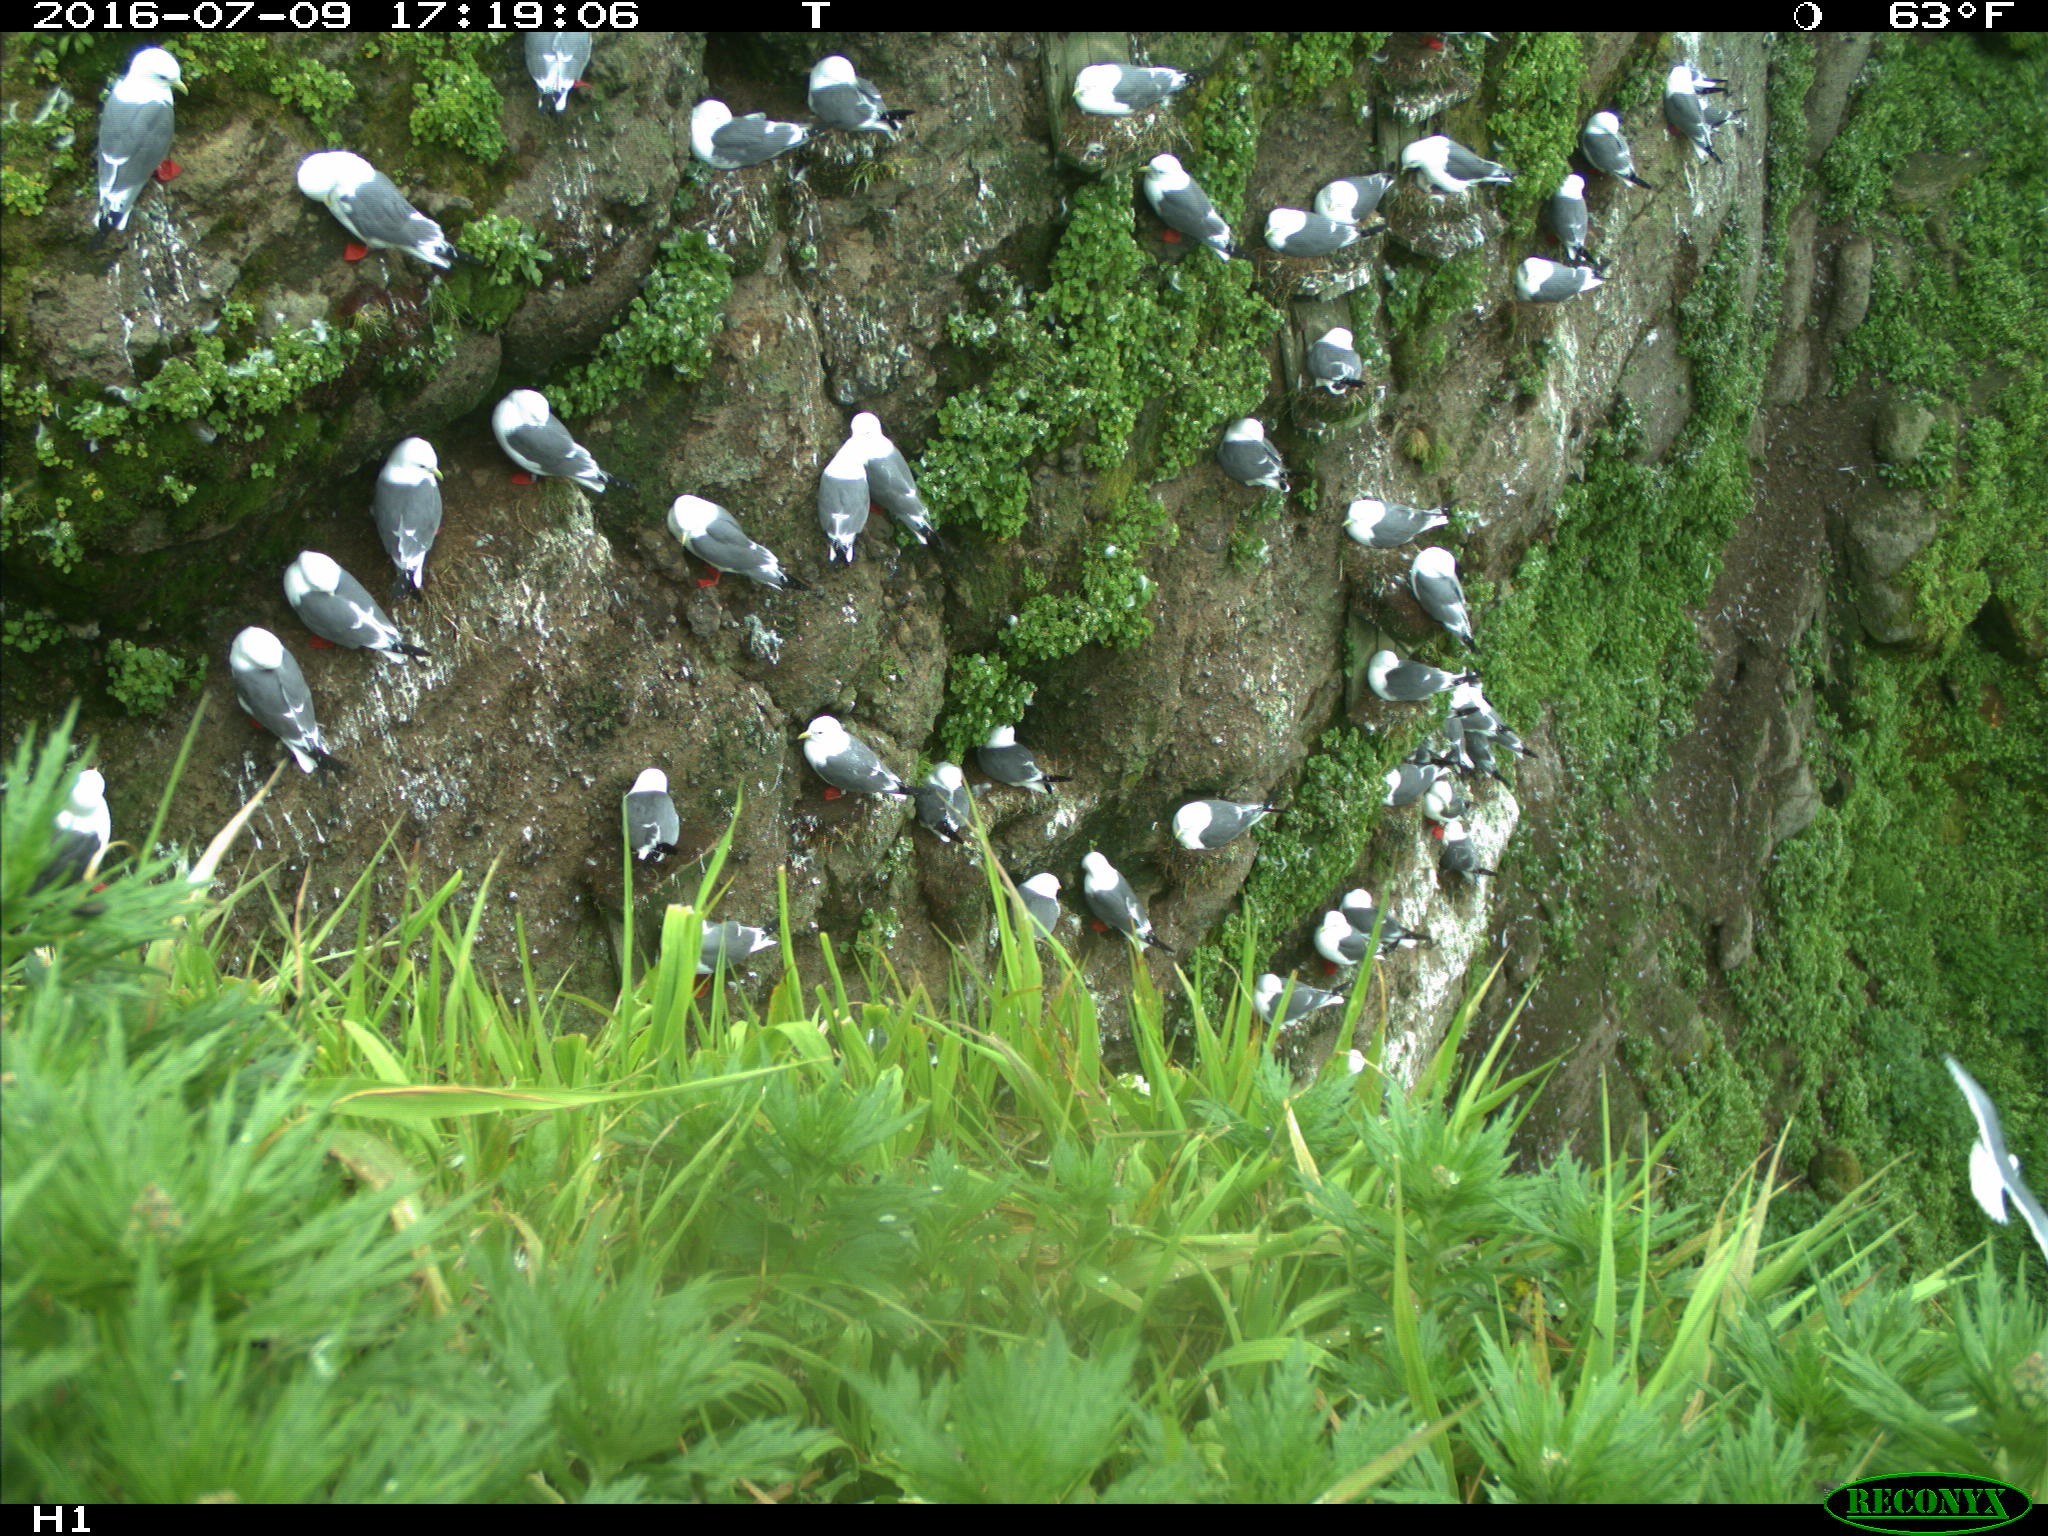Kittiwake: (273, 534, 460, 712), (358, 408, 498, 605), (305, 115, 434, 321), (71, 42, 194, 245), (487, 358, 626, 537), (782, 691, 939, 845), (219, 587, 334, 792), (842, 368, 943, 552), (35, 733, 135, 916), (642, 479, 785, 602), (1150, 758, 1279, 871), (1059, 48, 1218, 140), (666, 94, 827, 182), (968, 700, 1069, 841), (798, 45, 935, 140), (1392, 124, 1550, 207), (1247, 945, 1356, 1063), (1130, 142, 1238, 260), (1542, 174, 1709, 250), (1643, 56, 1737, 189), (1500, 232, 1630, 321), (605, 750, 692, 883), (985, 847, 1069, 984), (1284, 905, 1385, 1013), (1414, 502, 1493, 636), (1334, 842, 1435, 945), (663, 899, 782, 984), (1250, 192, 1379, 271), (1053, 878, 1145, 984), (801, 428, 872, 558), (514, 24, 608, 118), (1301, 311, 1392, 408), (1458, 666, 1550, 758), (1216, 403, 1300, 502), (1392, 812, 1526, 871), (1337, 474, 1421, 561), (1550, 103, 1642, 181), (1397, 750, 1492, 824), (1359, 636, 1450, 708), (929, 755, 982, 866)
